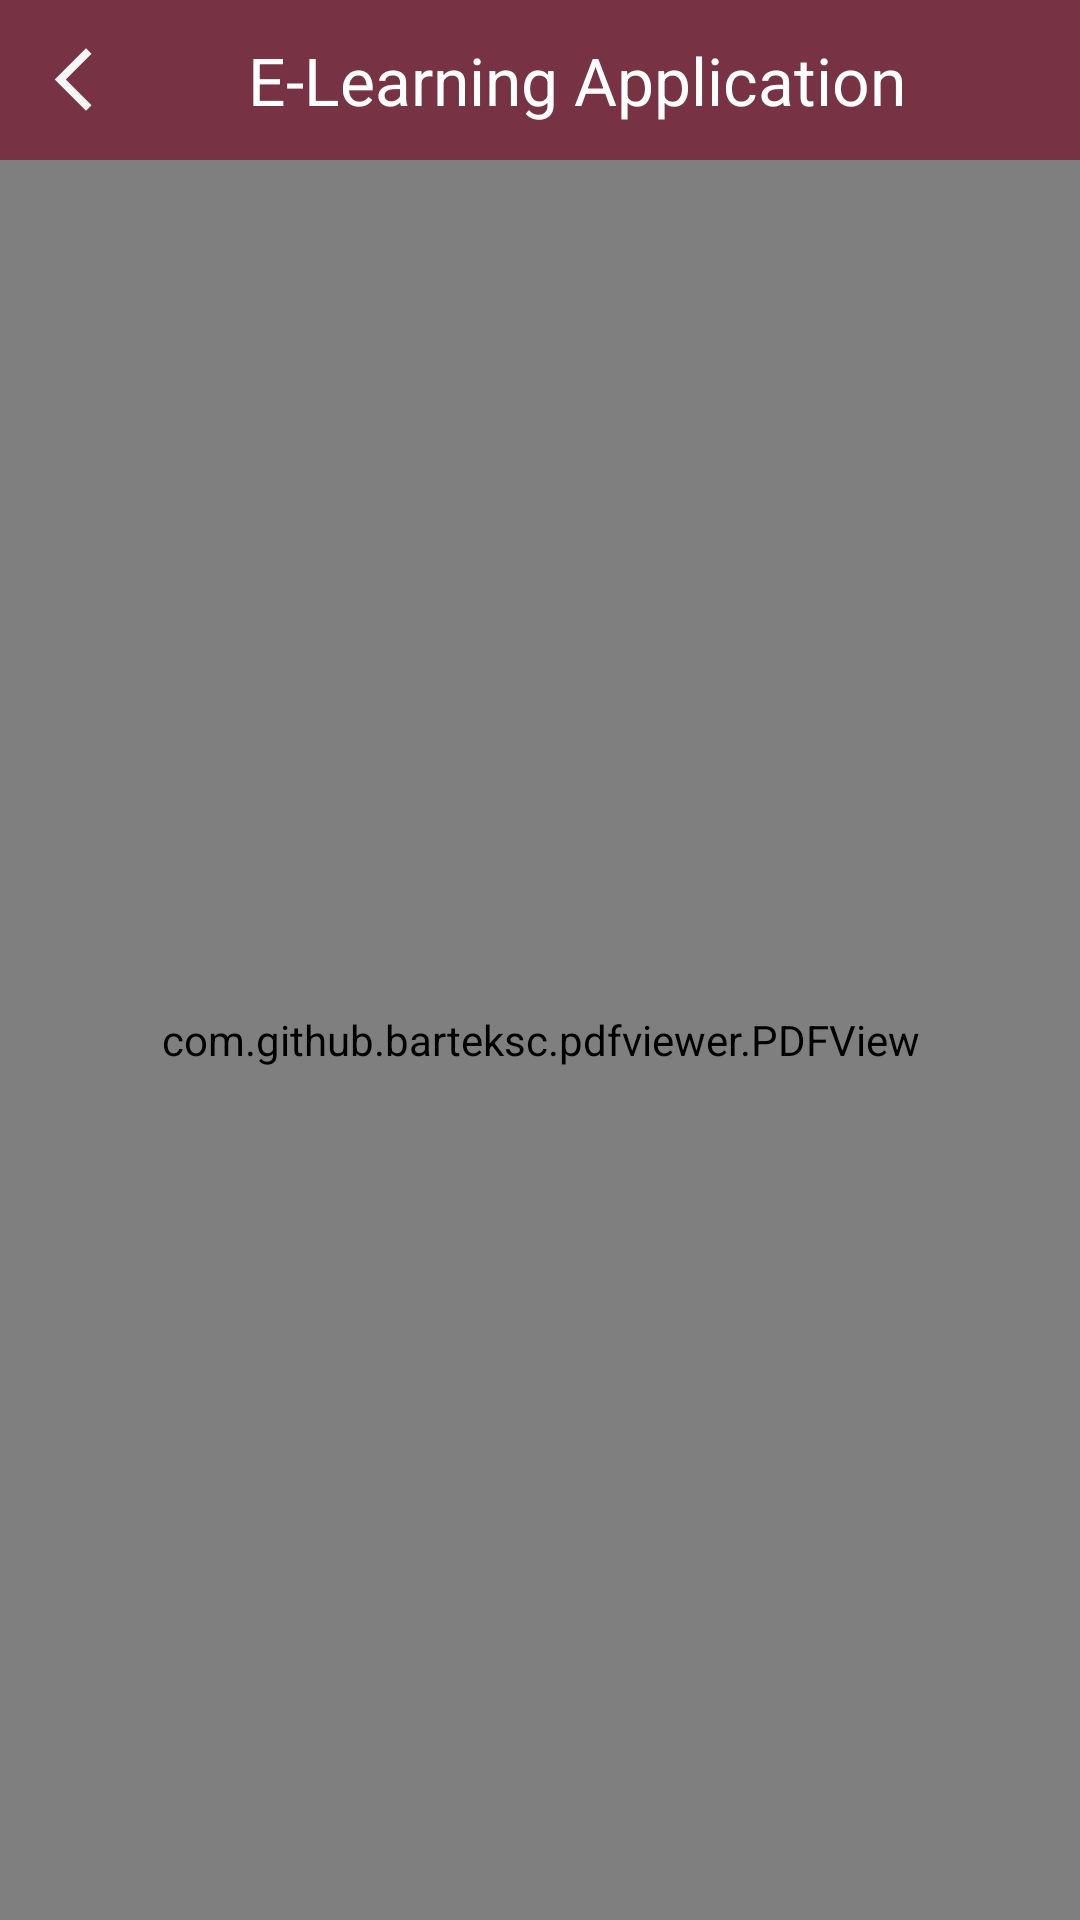

Screen size 1080*1920. Icon name, then its center in pixels as [x,y]:
previousarrow: [73,79]
